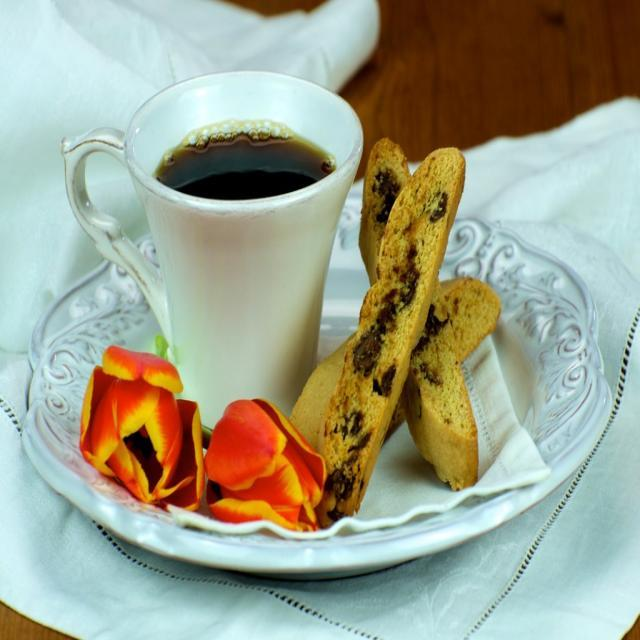Cookie: (318, 148, 468, 531), (355, 135, 479, 491), (284, 273, 500, 461)
